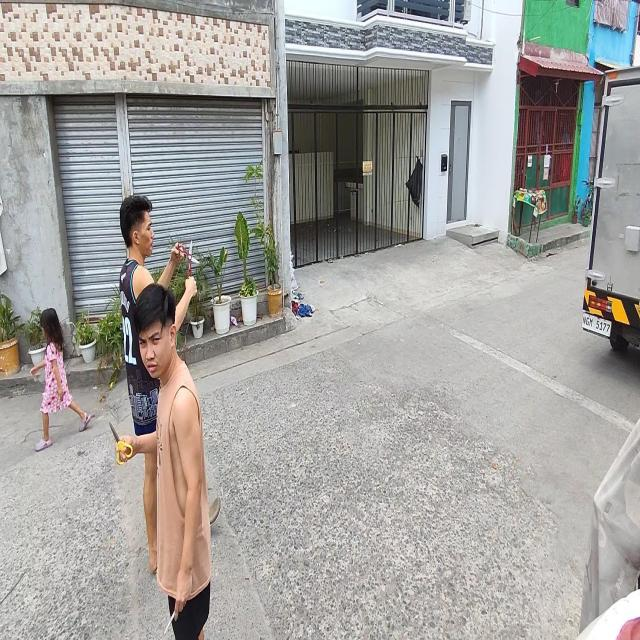scissor: (109, 422, 132, 464), (178, 241, 200, 278)
